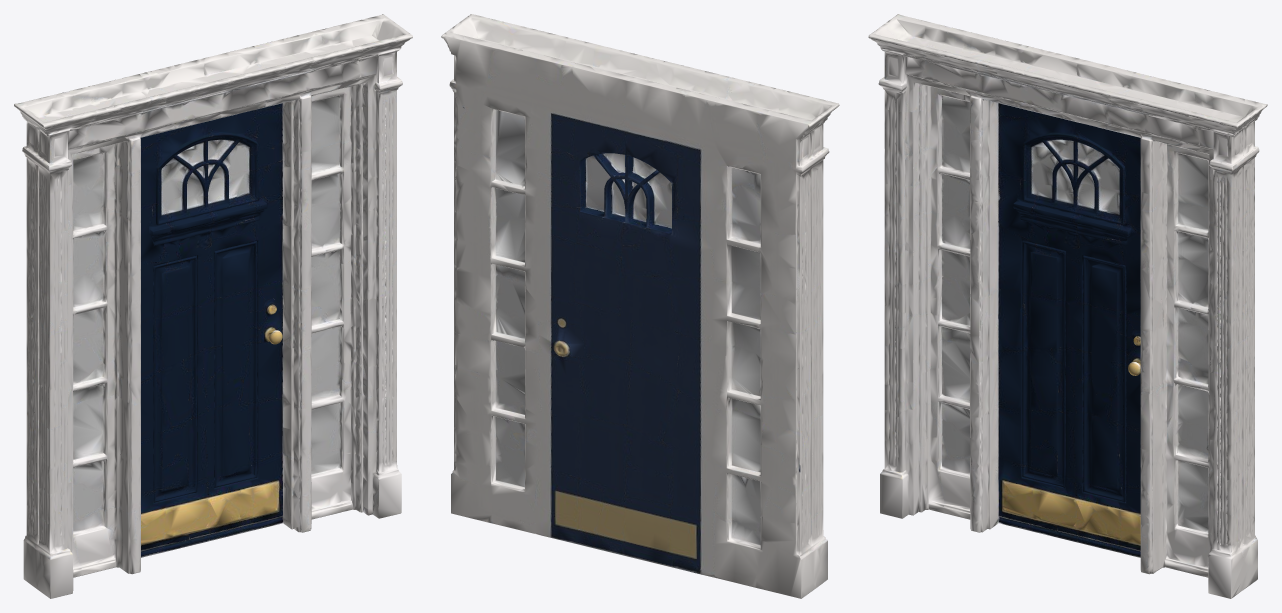
File: door.glb
3 renders of one model, left to right at view 1: azimuth 30°, elevation 25°; view 2: azimuth 150°, elevation 25°; view 3: azimuth 330°, elevation 25°, orthographic.
Bounding box in the file's own units: 1.54 × 1.9 × 0.2222.
Materials: 1 (1 with a texture image).
